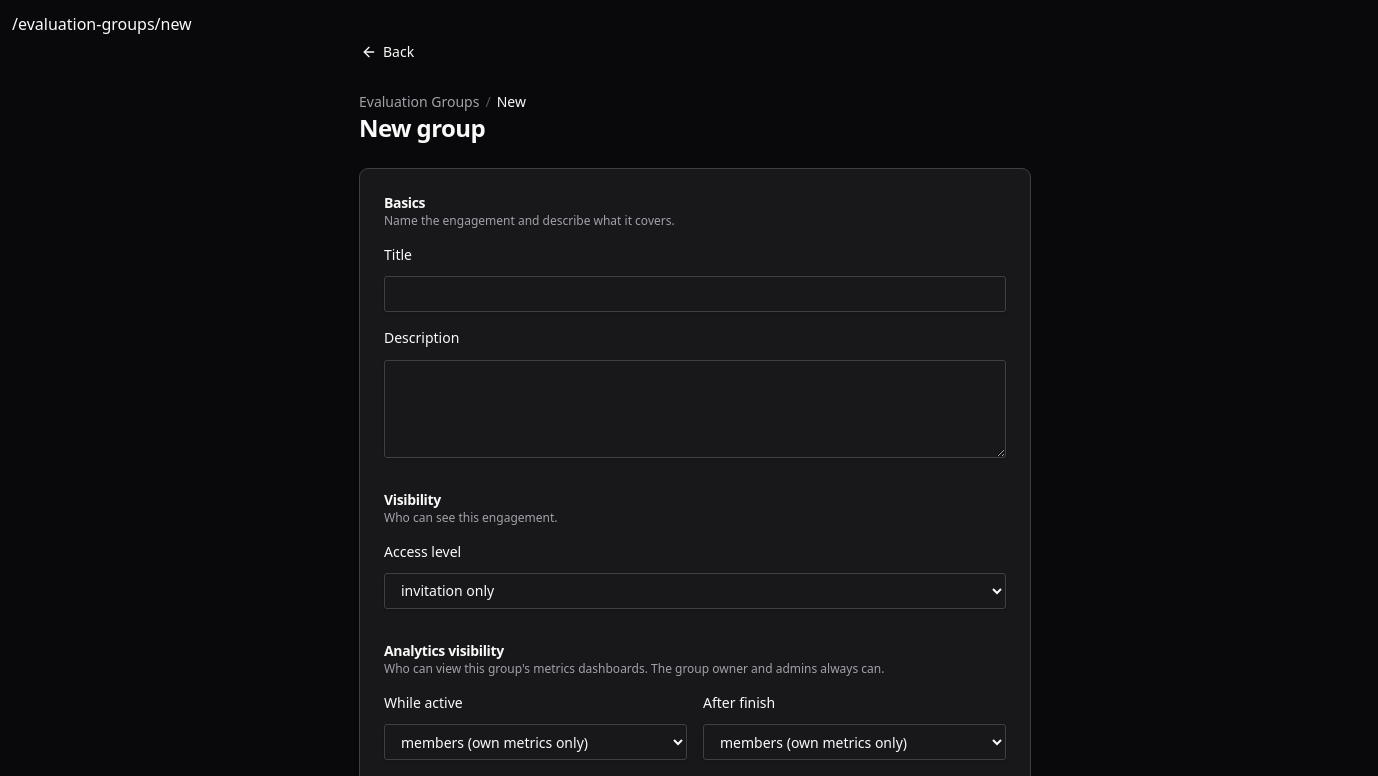
it: EvaluationGroupFormPage — analytics visibility › choosing public access sets both metrics selects to inherit_group_access
Expected: the dropdown labelled "While active" shows "members (own metrics only)", [384,724,687,760]
Select "public" in the dropdown labelled "Access level": point(695, 591) [384,573,1006,609]
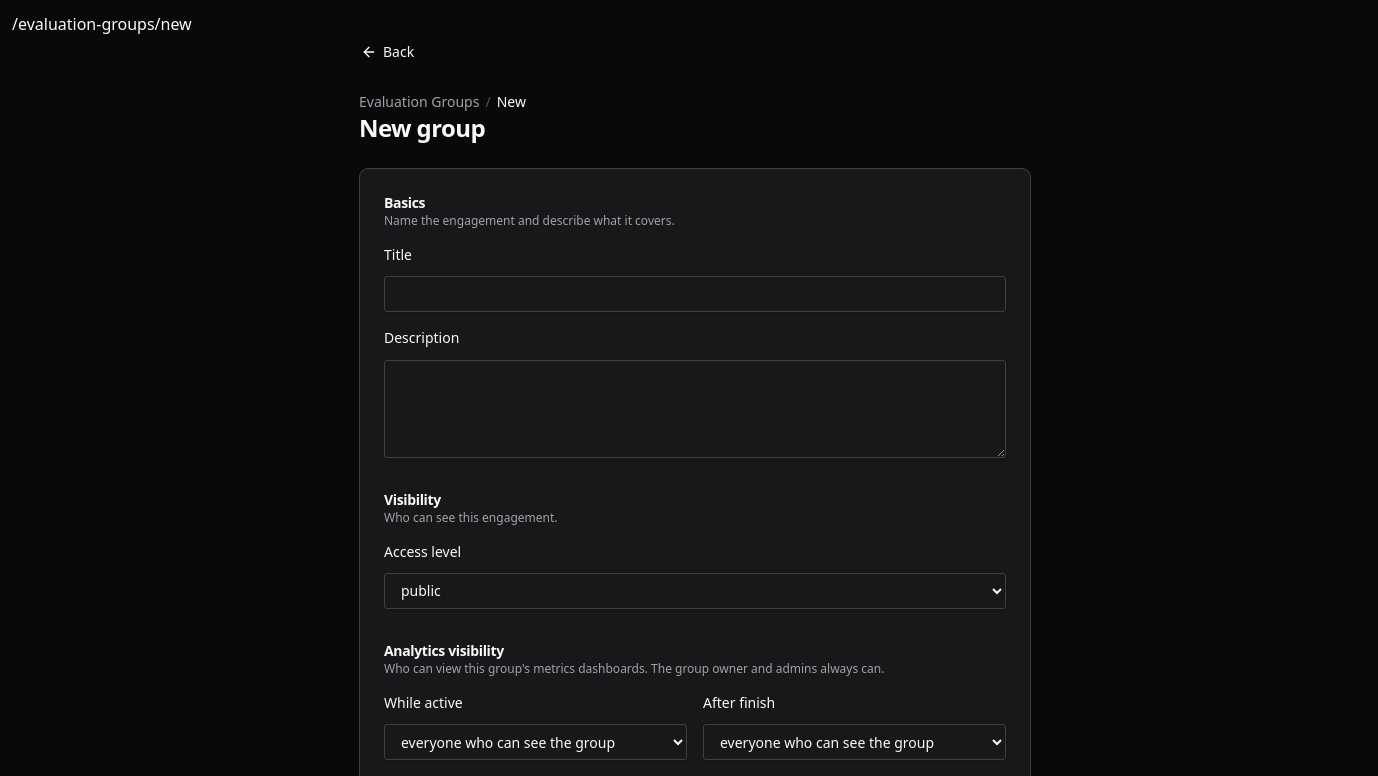
Expected: the dropdown labelled "While active" shows "everyone who can see the group", [384,724,687,760]
Expected: the dropdown labelled "After finish" shows "everyone who can see the group", [703,724,1006,760]
